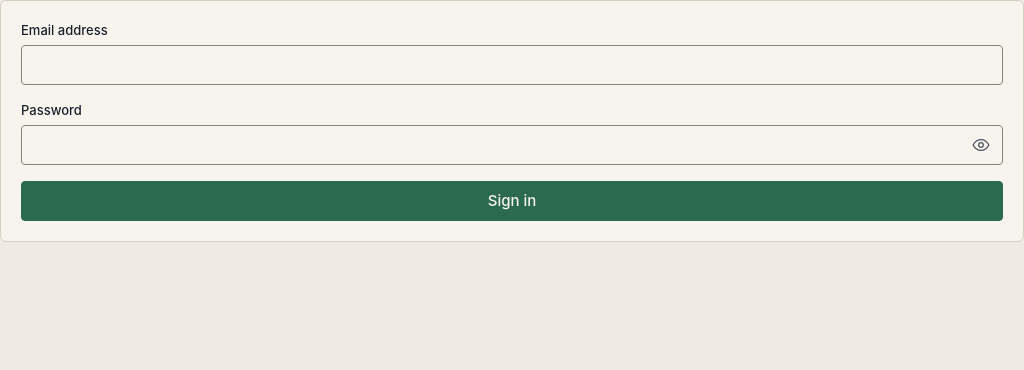
Test case: LoginForm › with valid input says sign-in is not enabled, clears the password, and signs nobody in
This screenshot has width=1024, height=370.
Type "name@company.com" into the field labelled "Email address" at (512, 65), box [21,45,1003,85]
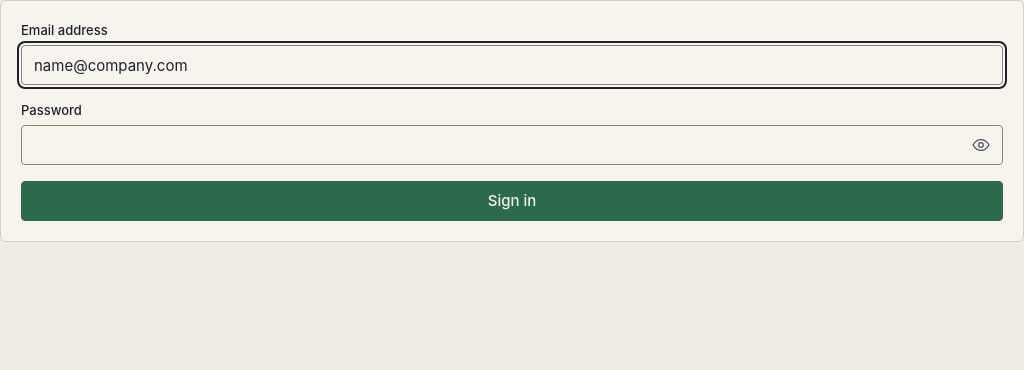
Type "a-password" into the password field labelled "Password" at (512, 145), box [21,125,1003,165]
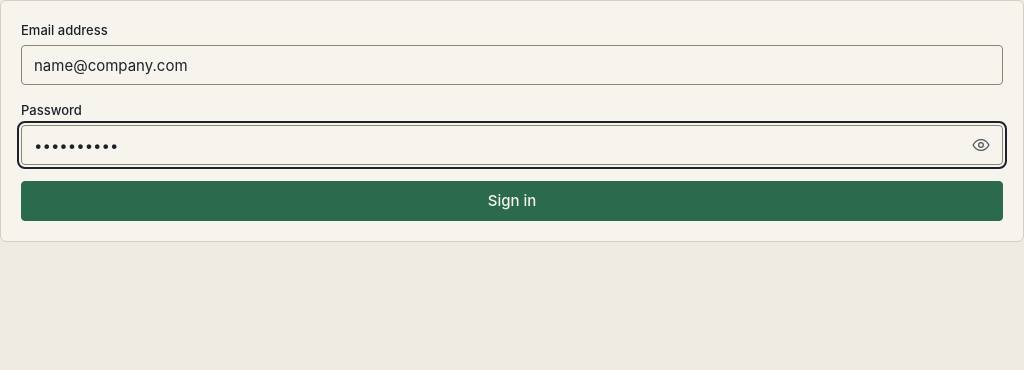
Click the button "Sign in" at (512, 201), box [21,181,1003,221]
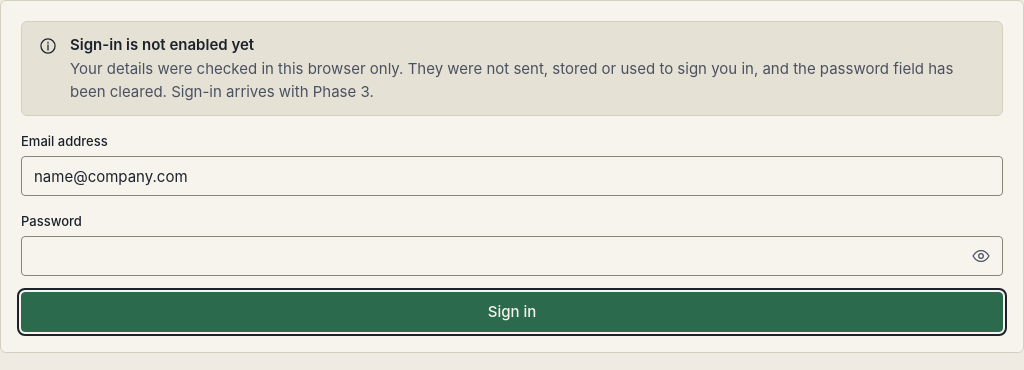
Expected: the message shows "Sign-in is not enabled yet", [70,35,254,54]
Expected: the message shows "not sent, stored", [70,59,953,101]
Expected: the password field labelled "Password" is empty, [21,236,1003,276]
